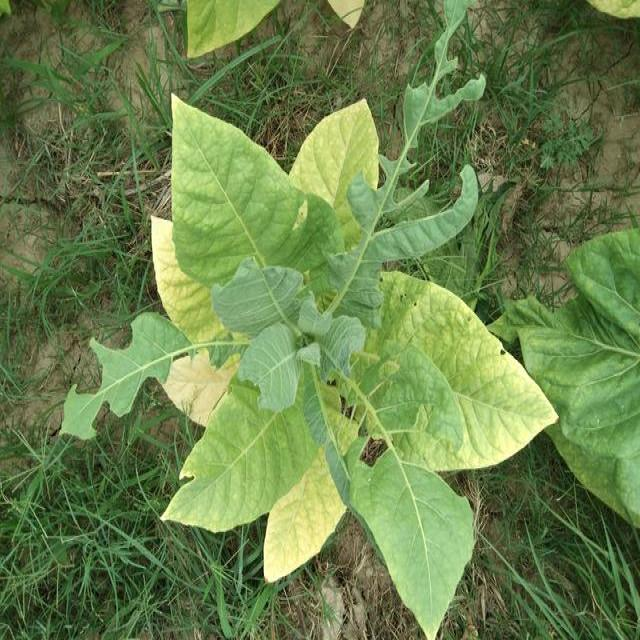crop: (139, 70, 560, 640)
